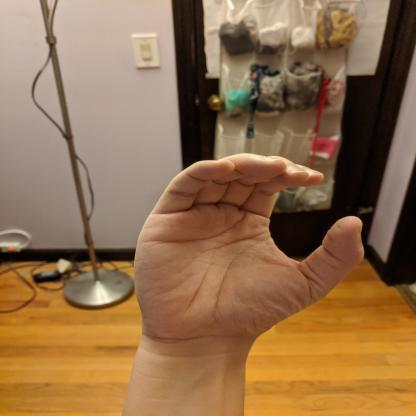C: (128, 150, 370, 349)
